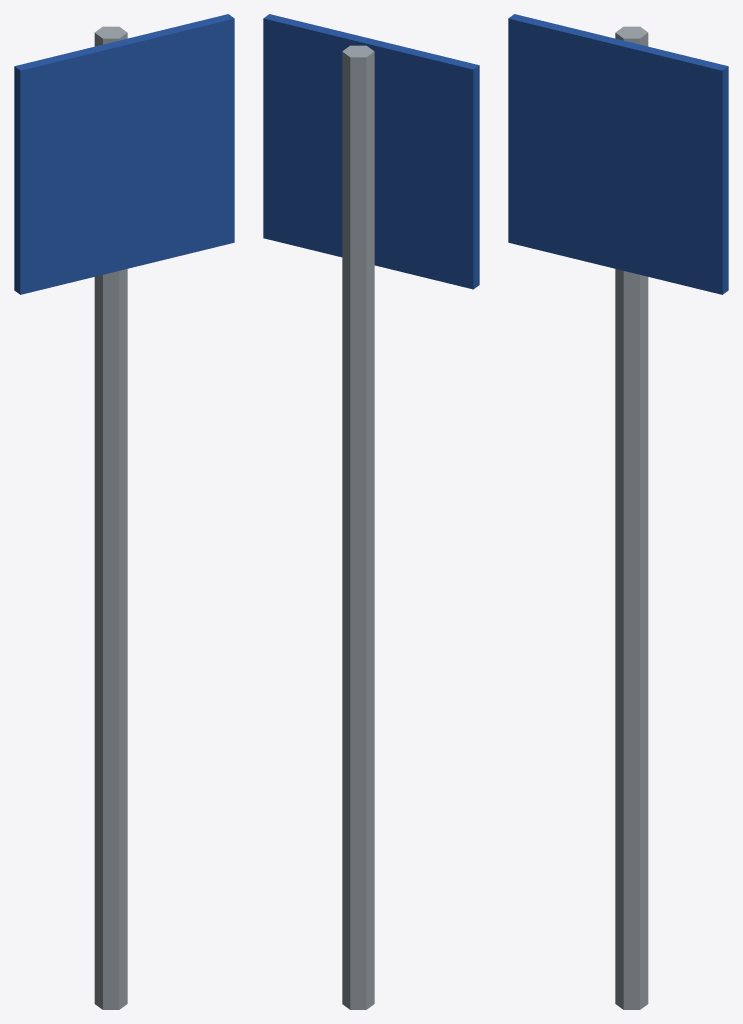
Rendered from Sign_PedestrianCrossing.glb.
3 views of the same model, side by side, from view 1: azimuth 30°, elevation 25°; view 2: azimuth 150°, elevation 25°; view 3: azimuth 330°, elevation 25° (orthographic).
Parts seen in each view (by area): view 1: Sign_PedestrianCrossing_Face, Sign_PedestrianCrossing_Metal; view 2: Sign_PedestrianCrossing_Face, Sign_PedestrianCrossing_Metal; view 3: Sign_PedestrianCrossing_Face, Sign_PedestrianCrossing_Metal.
Part boxes in pixels (x1,y1,x2,y2): Sign_PedestrianCrossing_Face: [14, 14, 234, 294]; Sign_PedestrianCrossing_Metal: [94, 26, 127, 1009]; Sign_PedestrianCrossing_Face: [263, 14, 479, 289]; Sign_PedestrianCrossing_Metal: [342, 45, 374, 1009]; Sign_PedestrianCrossing_Face: [508, 14, 728, 294]; Sign_PedestrianCrossing_Metal: [615, 26, 648, 1009].
Bounding box in the file's own units: 0.6 × 2.6 × 0.12.
